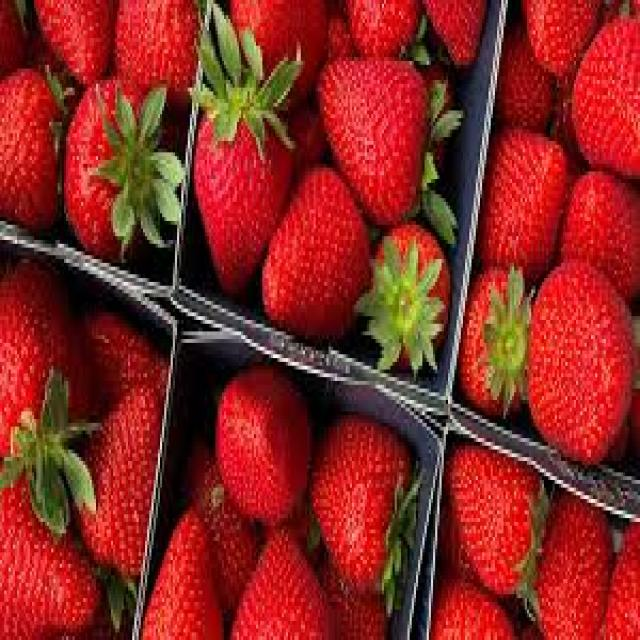strawberry: (527, 260, 635, 464), (195, 90, 298, 294), (318, 53, 431, 228), (0, 260, 95, 468), (309, 413, 415, 598), (262, 164, 371, 339), (64, 75, 150, 262), (446, 440, 546, 600), (215, 364, 311, 526), (478, 128, 568, 282), (458, 263, 538, 420), (368, 220, 450, 367), (532, 493, 614, 637), (137, 508, 226, 640)
